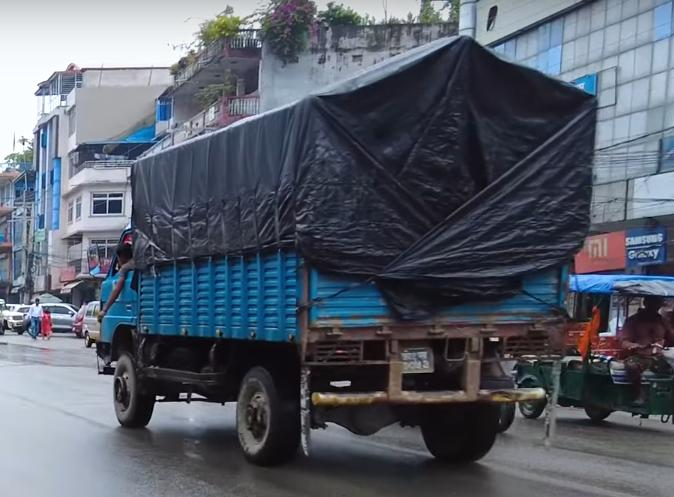car: (4, 297, 77, 336)
e-rickshaw: (570, 264, 674, 433)
mini_truck: (89, 29, 591, 486)
